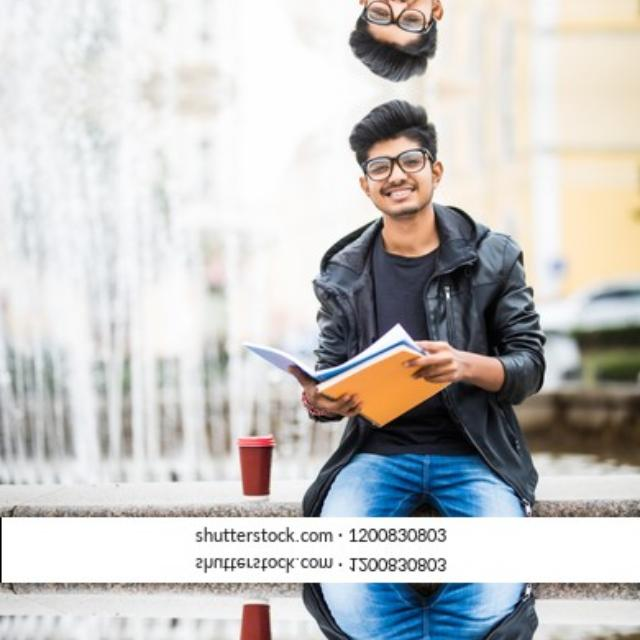person: (283, 97, 563, 509), (283, 0, 563, 83), (283, 589, 563, 640)
